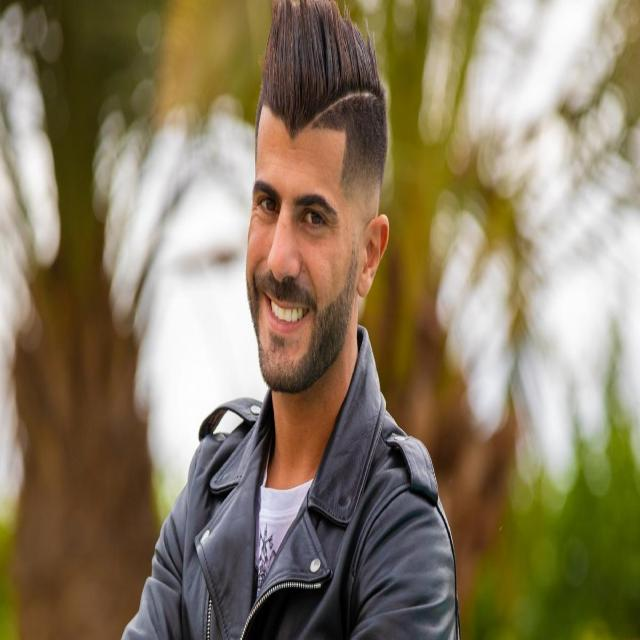human: (123, 6, 463, 640)
